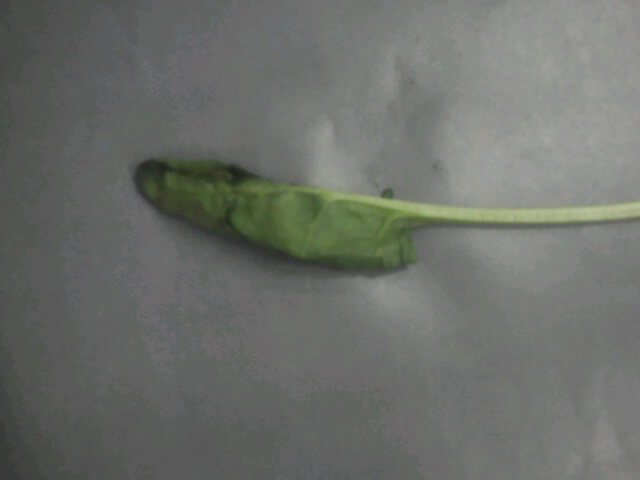yellow: (113, 126, 573, 321)
